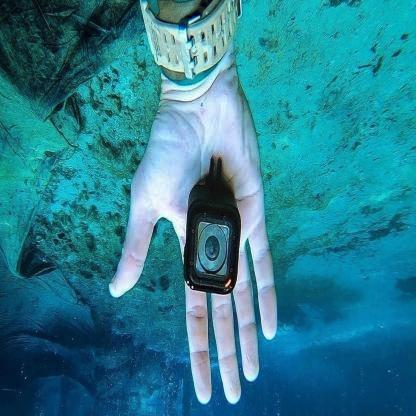electronics: (185, 182, 242, 302)
